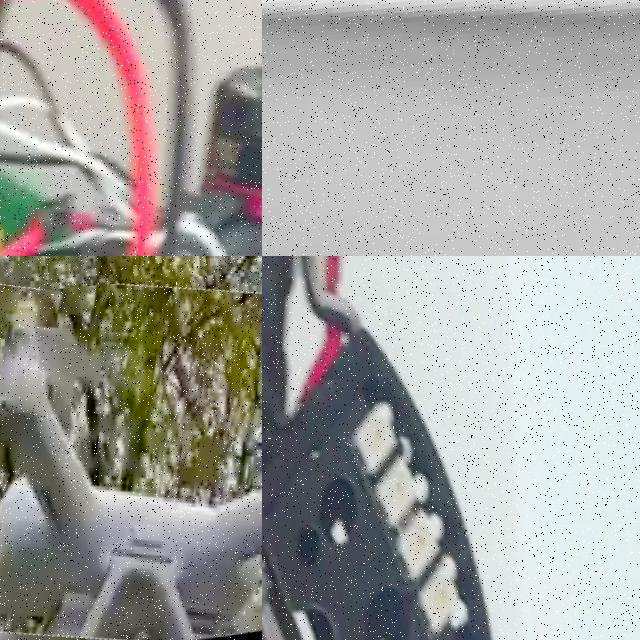drone: (262, 256, 640, 640), (0, 256, 262, 640), (0, 0, 262, 256)
